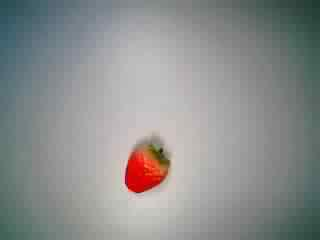strawberry: (114, 135, 180, 197)
